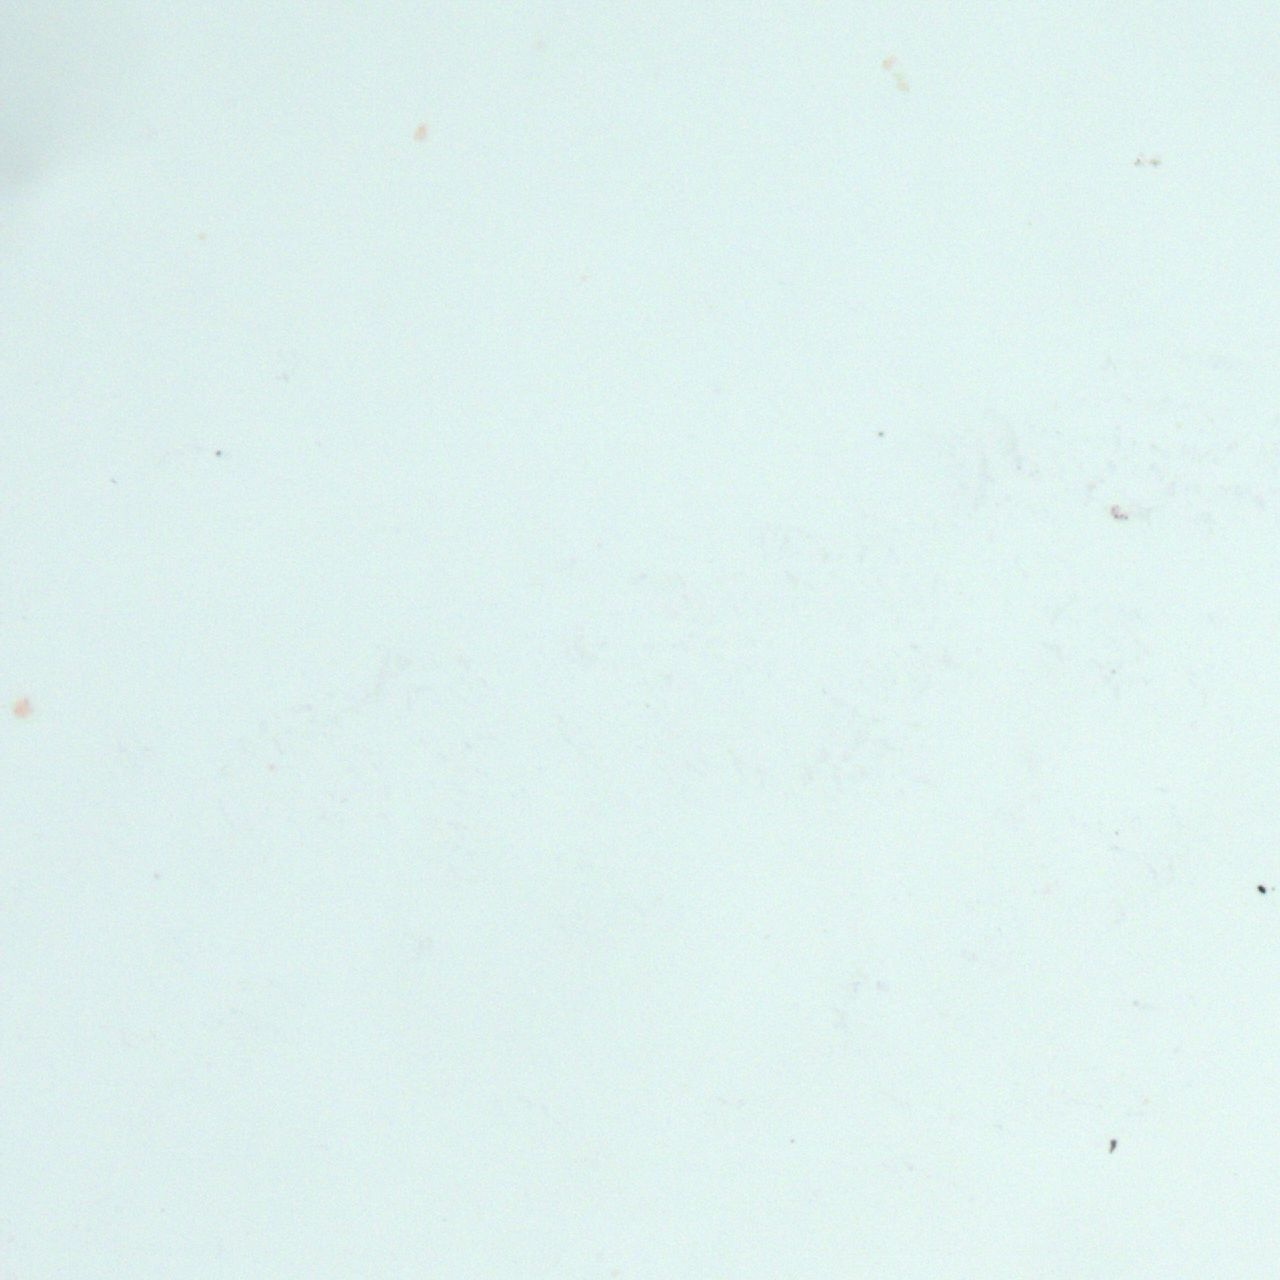dust: (13, 697, 32, 719), (1110, 504, 1128, 520), (894, 74, 908, 93), (881, 55, 896, 72), (414, 125, 427, 143), (1108, 1138, 1116, 1151), (197, 232, 206, 241), (1150, 158, 1160, 166), (1257, 884, 1265, 893), (215, 448, 222, 456), (1133, 157, 1139, 165)
